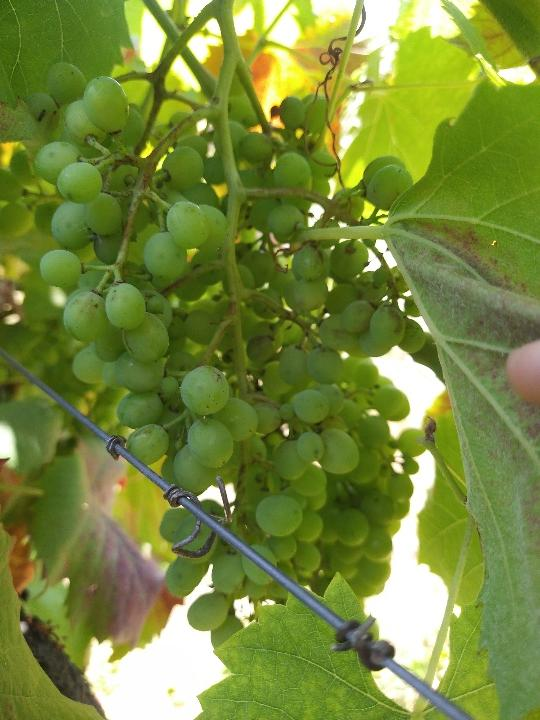grape: (23, 60, 427, 652)
